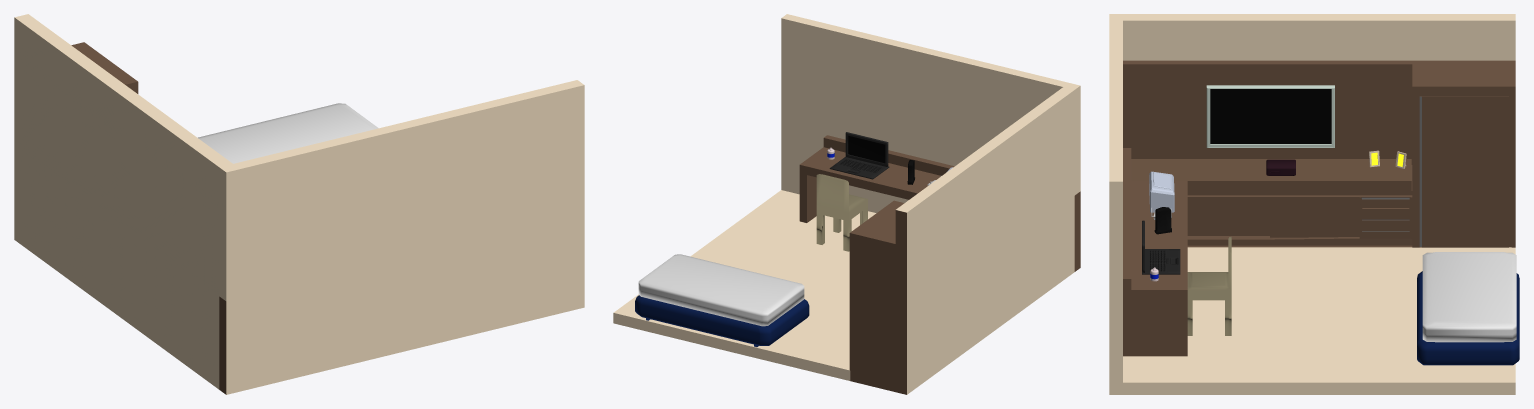
The model's file is quarto.fbx.
3 renders of one model, left to right at view 1: azimuth 30°, elevation 25°; view 2: azimuth 150°, elevation 25°; view 3: azimuth 270°, elevation 25°, orthographic. The views are drawn at different scales.
Parts seen in each view (by area): view 1: Cube, Cube.001; view 2: Cube, Cube.001, Cube.002, Cube.011, Cube.004; view 3: Cube, Cube.001, Cube.003, Cube.002, Cube.011, Cube.004, Cube.005, Cube.010, Cube.006.
Part boxes in pixels (x1,y1,x2,y2): Cube: (14,14,584,394); Cube.001: (198,103,378,163); Cube: (613,14,1080,394); Cube.001: (638,254,804,326); Cube.002: (635,295,809,346); Cube.011: (816,174,867,251); Cube.004: (829,132,889,179); Cube: (1109,14,1515,394); Cube.001: (1422,252,1516,342); Cube.003: (1206,85,1334,147); Cube.002: (1417,271,1519,365); Cube.011: (1187,236,1231,335); Cube.004: (1142,220,1180,274); Cube.005: (1149,171,1174,212); Cube.010: (1266,159,1295,175); Cube.006: (1154,207,1171,234).
Bounding box in the file's own units: 5642 × 3349 × 5836.
